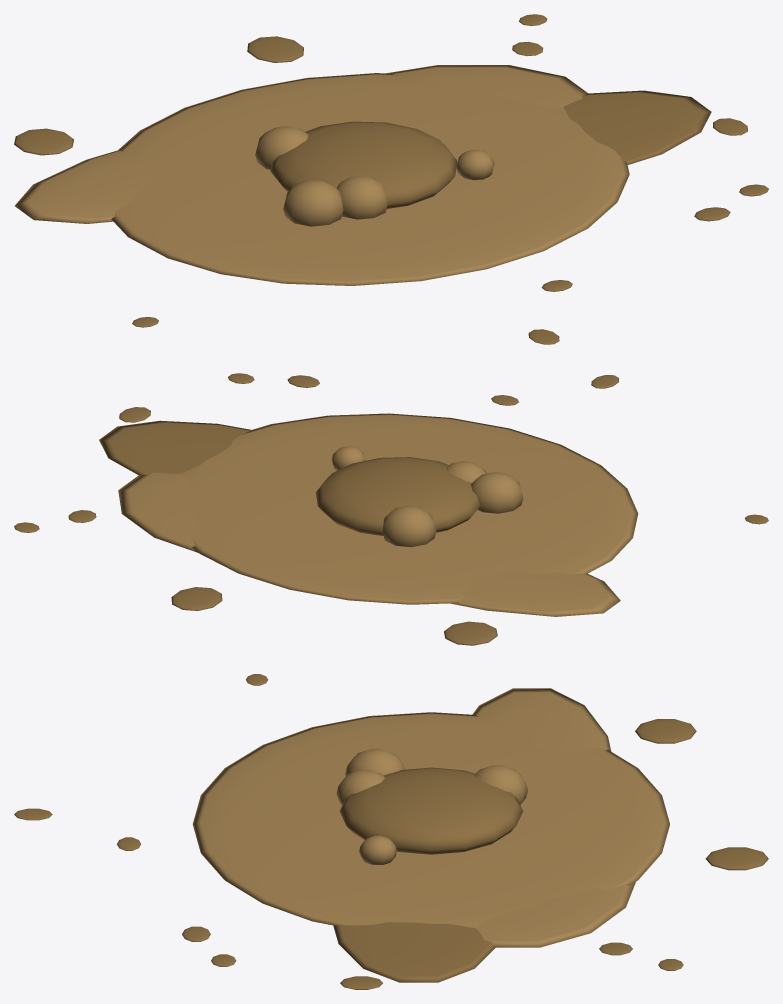
Rendered from kot_fluessig.glb.
3 renders of one model, top to bottom at view 1: azimuth 30°, elevation 25°; view 2: azimuth 150°, elevation 25°; view 3: azimuth 270°, elevation 25°, orthographic. The views are drawn at different scales.
Parts seen in each view (by area): view 1: KotFluessig; view 2: KotFluessig; view 3: KotFluessig.
Part boxes in pixels (x1,y1,x2,y2): KotFluessig: [14, 14, 768, 344]; KotFluessig: [14, 373, 768, 645]; KotFluessig: [14, 674, 768, 989].
Size of the model in its own units: 0.7318 by 0.0484 by 0.74.
